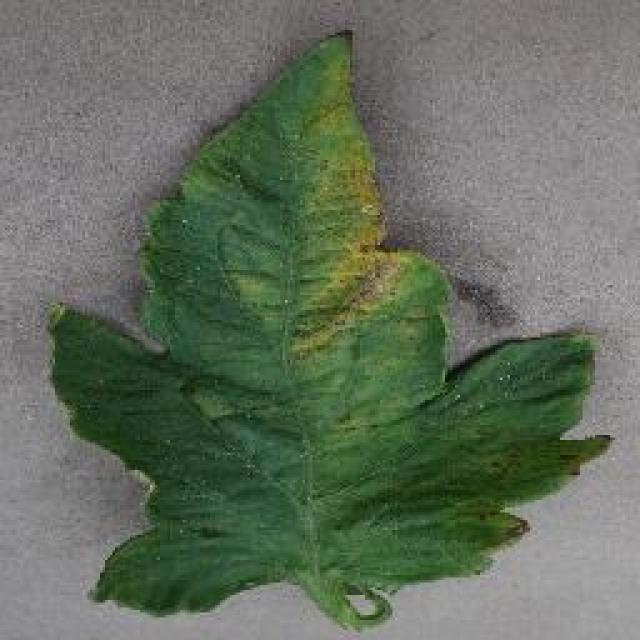Tomato___Bacterial_spot: (41, 28, 612, 635)
